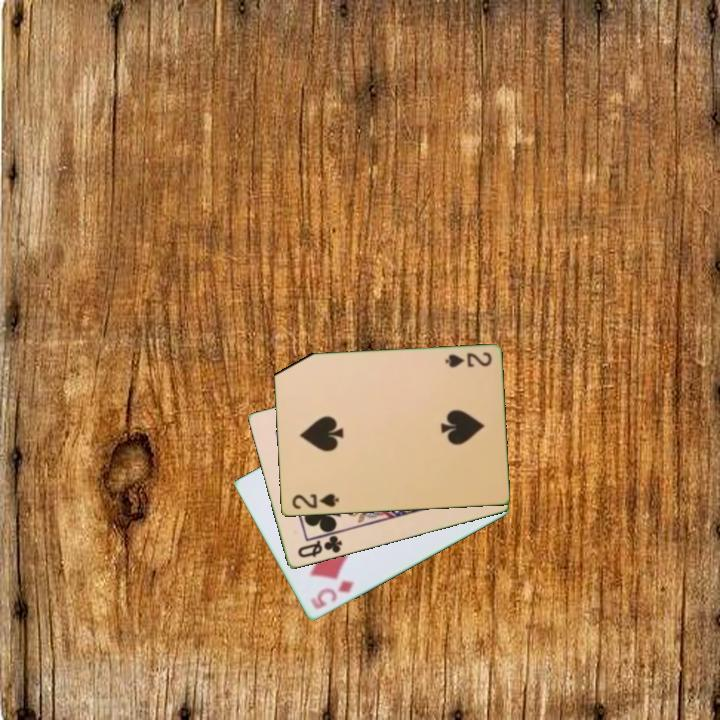2s: (288, 490, 341, 512), (441, 349, 494, 371)
5d: (306, 577, 357, 613)
Qc: (294, 532, 345, 561)
